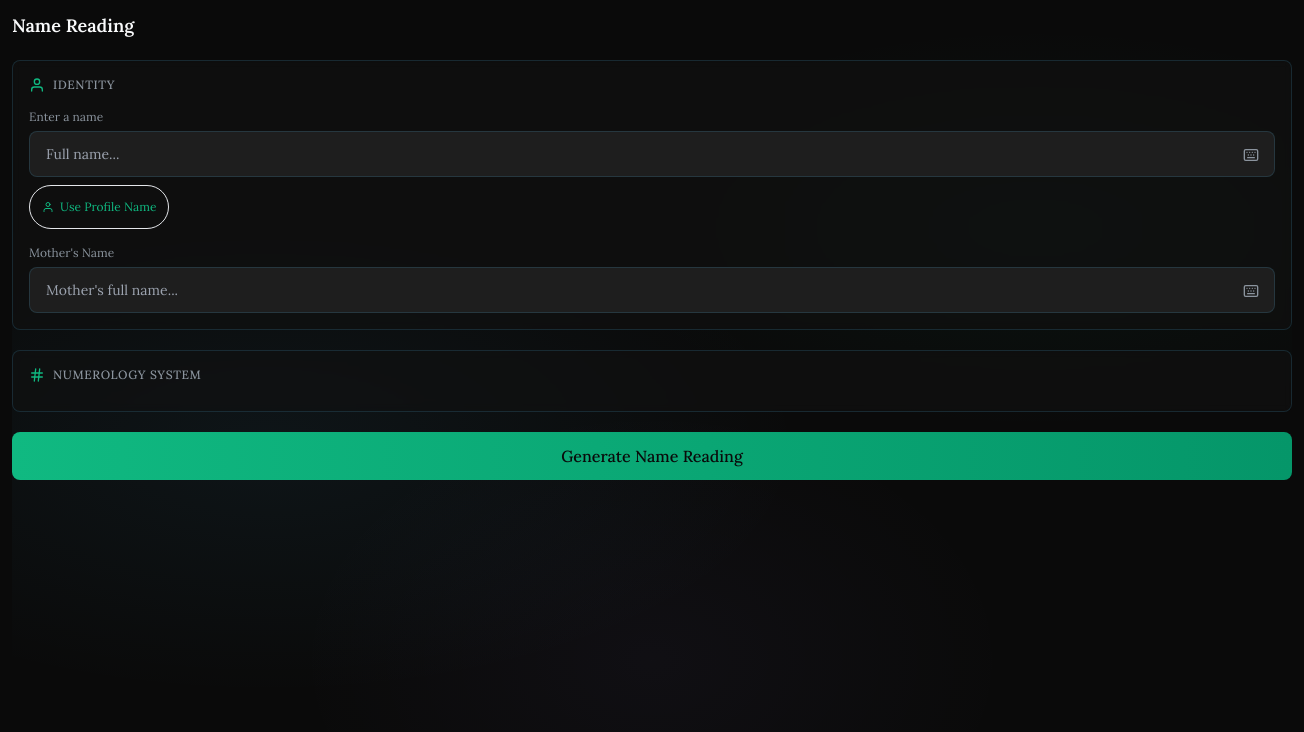
Test: NameReadingForm › clicking Use Profile Name pre-fills input
Click the button with test id "use-profile-name": (99, 207) [29,185,169,229]
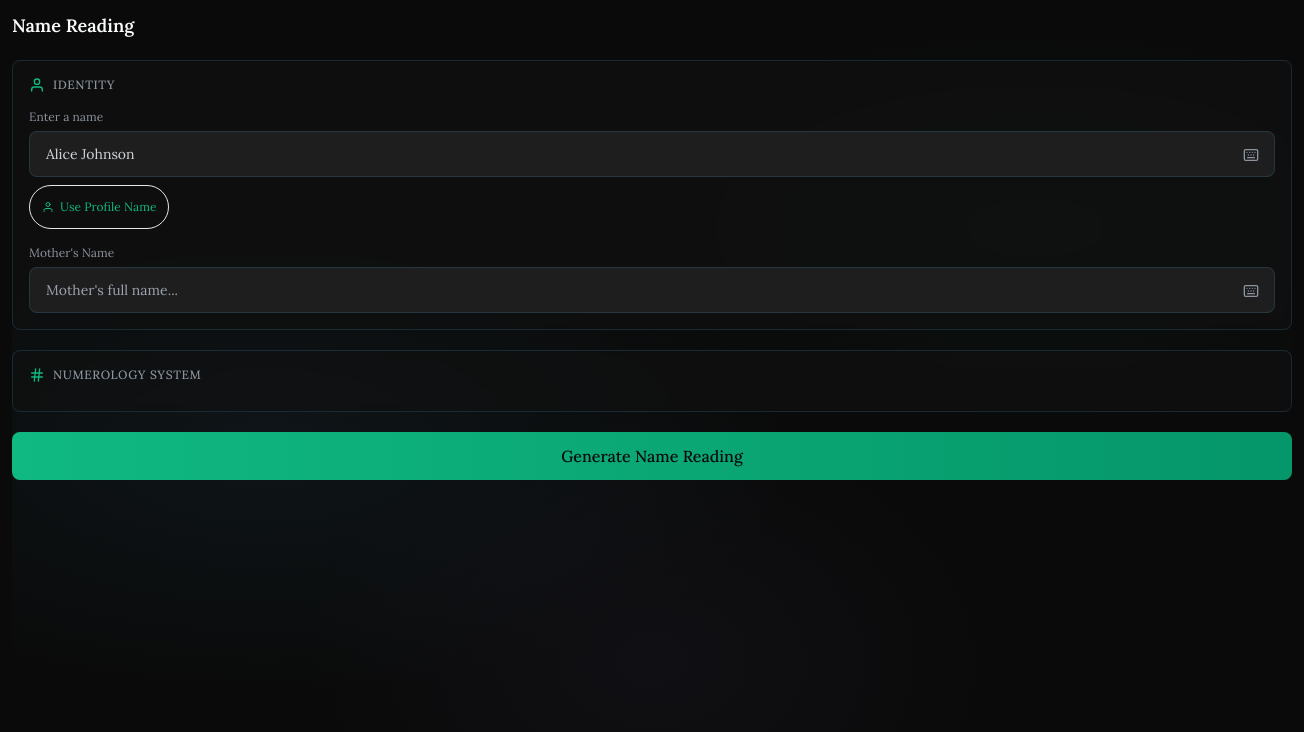
Check: the field with test id "name-input" holds "Alice Johnson", box [29,131,1275,177]
